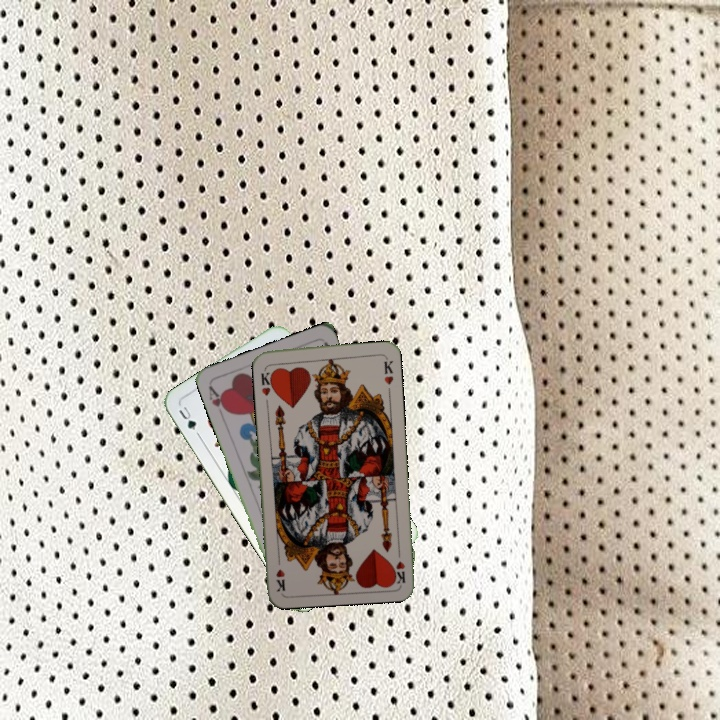GU: (174, 402, 202, 438)
HA: (205, 381, 231, 420)
HK: (389, 544, 408, 585), (257, 364, 277, 398)
